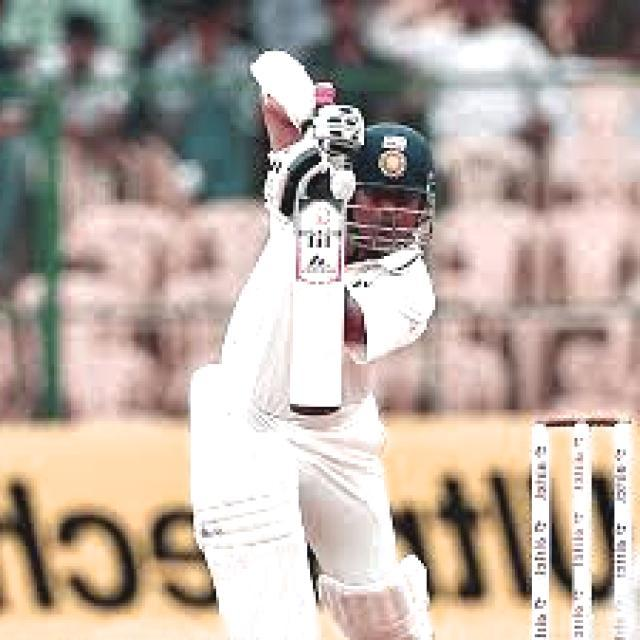bat: (282, 205, 352, 422)
toe: (288, 400, 330, 419)
